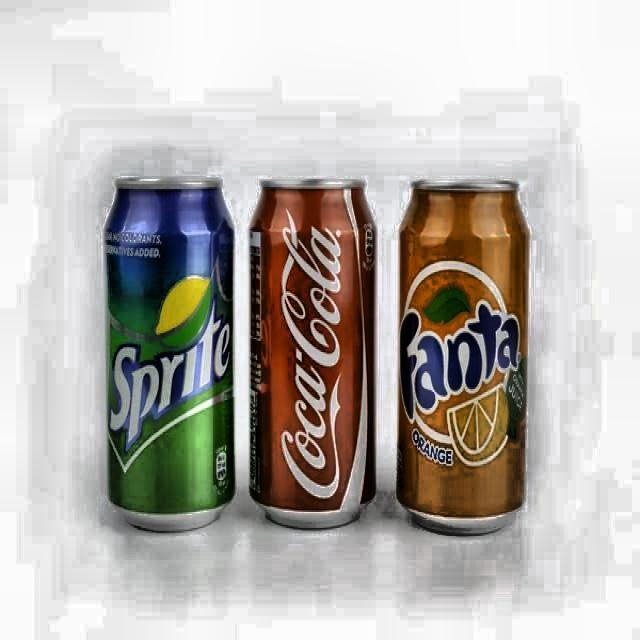metal: (103, 178, 240, 537), (396, 181, 530, 539), (248, 180, 376, 533)
